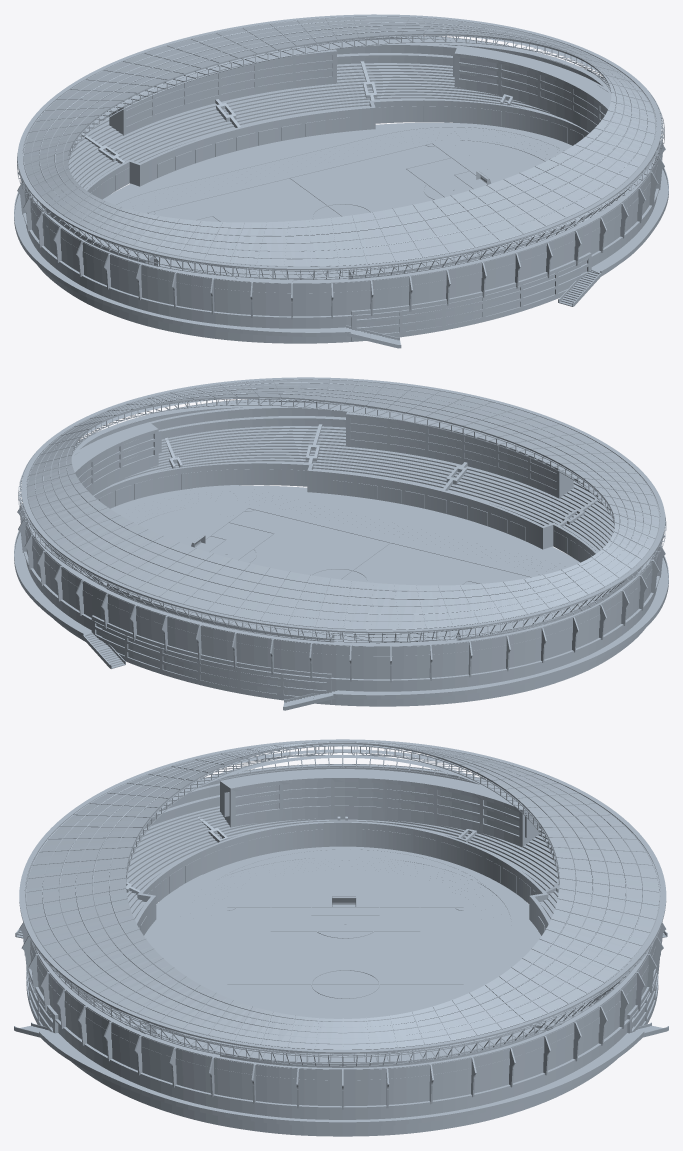
File: stadium.glb
3 renders of one model, top to bottom at view 1: azimuth 30°, elevation 25°; view 2: azimuth 150°, elevation 25°; view 3: azimuth 270°, elevation 25°, orthographic. The views are drawn at different scales.
Parts seen in each view (by area): view 1: sub01, sub02; view 2: sub01, sub02; view 3: sub01, sub02.
Boxes of the visible parts, left/top/right/bottom form: sub01: left=14, top=14, right=668, bottom=348; sub02: left=24, top=35, right=658, bottom=343; sub01: left=14, top=377, right=668, bottom=710; sub02: left=24, top=398, right=658, bottom=706; sub01: left=14, top=739, right=668, bottom=1126; sub02: left=27, top=764, right=657, bottom=1136.
Bounding box in the file's own units: 2 × 0.3209 × 1.75.
